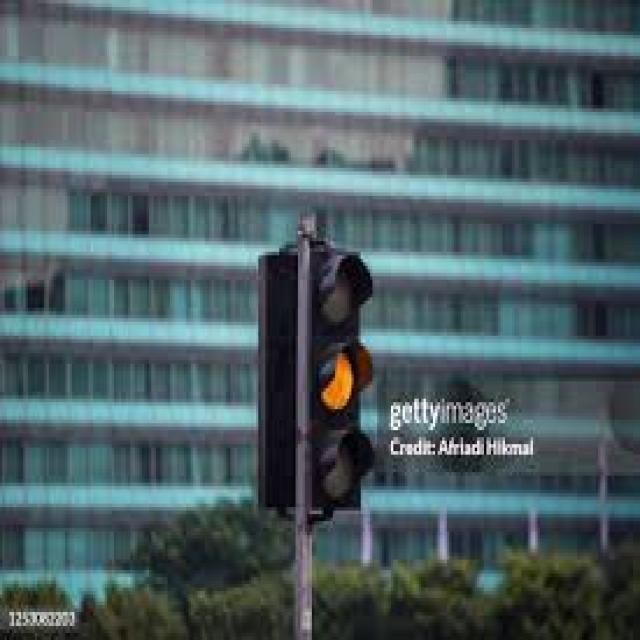yellow_light: (304, 219, 371, 513)
